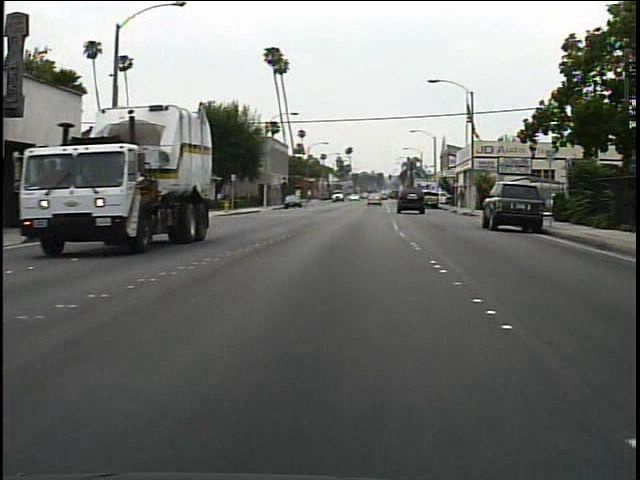person: (452, 186, 470, 214)
